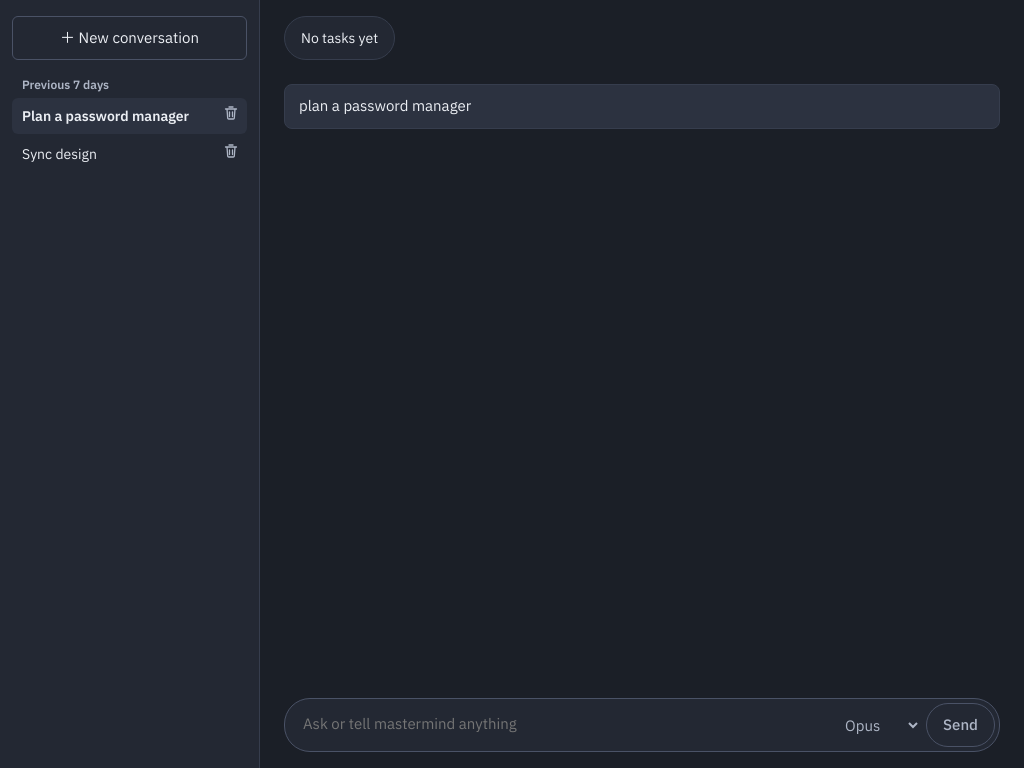
Test: chat screen › deletes a conversation from the sidebar only once the owner confirms
Click the button named "Delete Sync design": (231, 154) top-left (215, 138), bottom-right (247, 170)
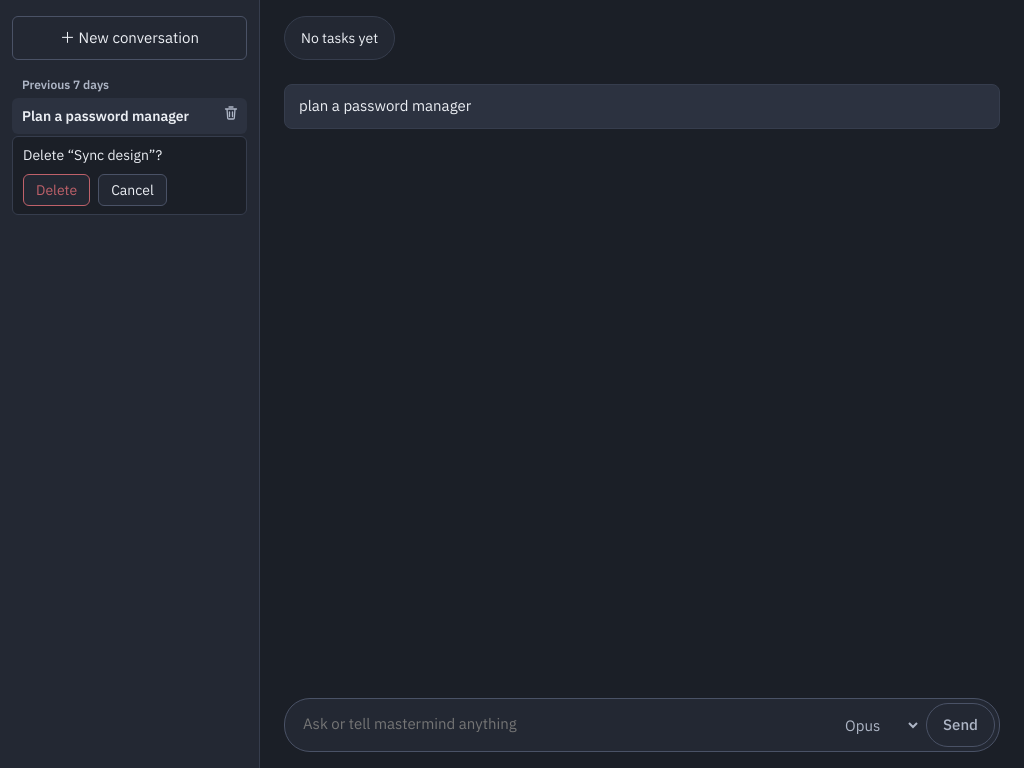
Result: the text "Delete “Sync design”?" is shown at top-left (23, 146), bottom-right (162, 164)
Click the button "Cancel": (132, 190) top-left (98, 174), bottom-right (167, 206)
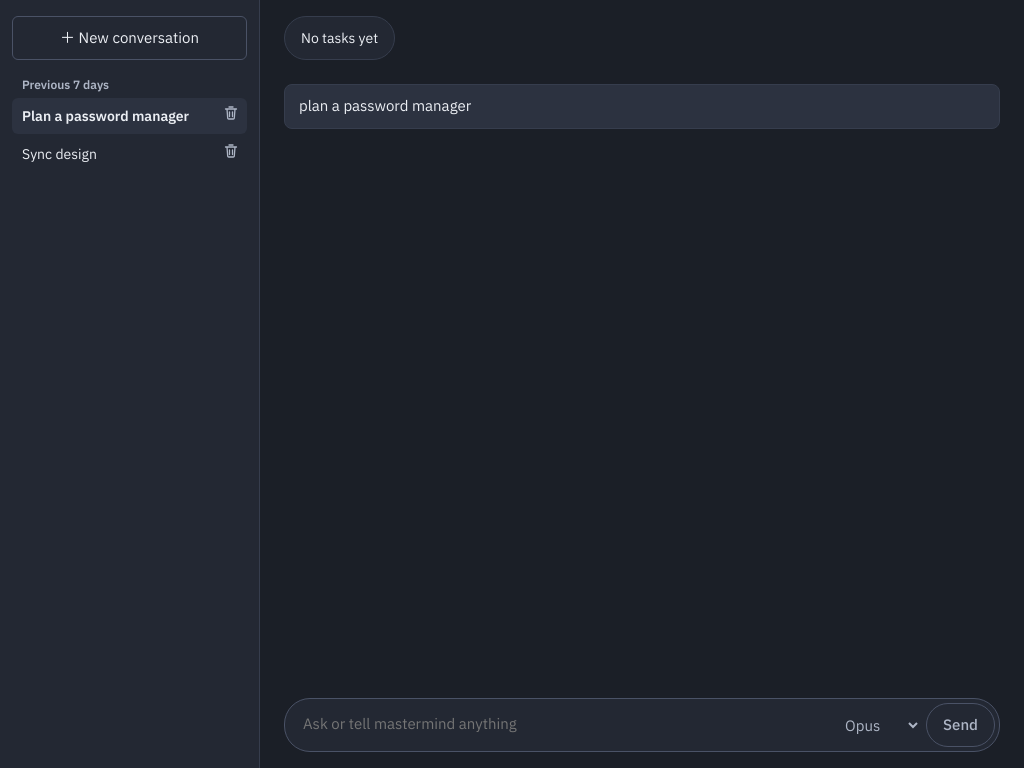
Click the button named "Delete Sync design": (231, 154) top-left (215, 138), bottom-right (247, 170)
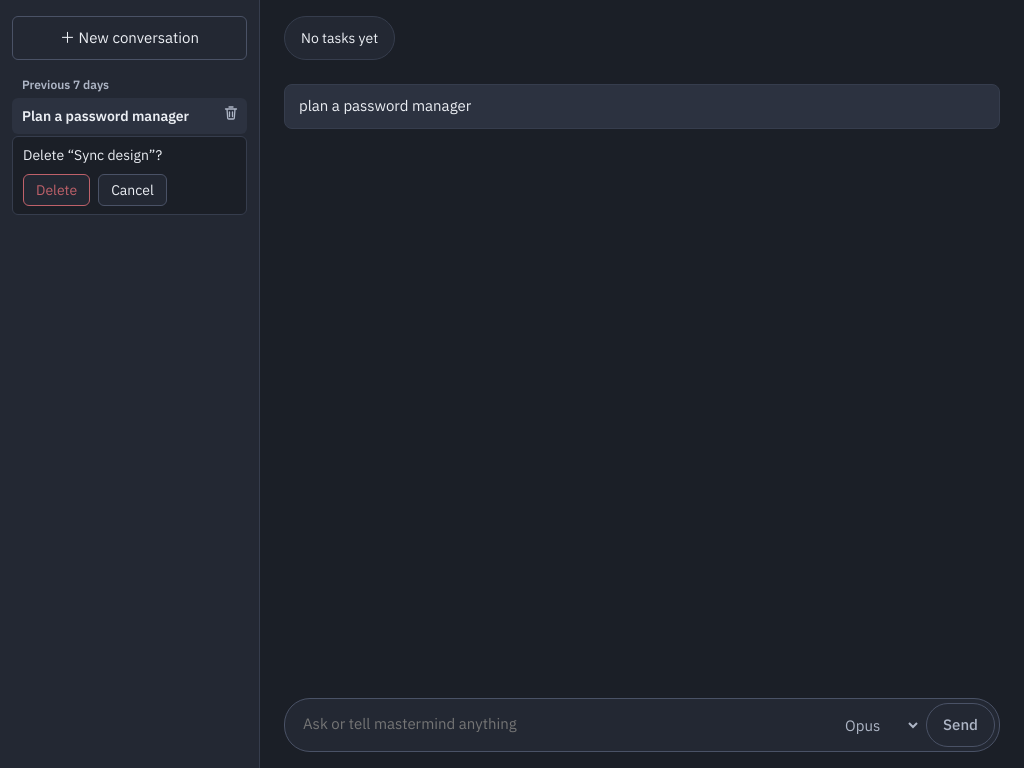
Click the button "Delete": (57, 190) top-left (23, 174), bottom-right (90, 206)
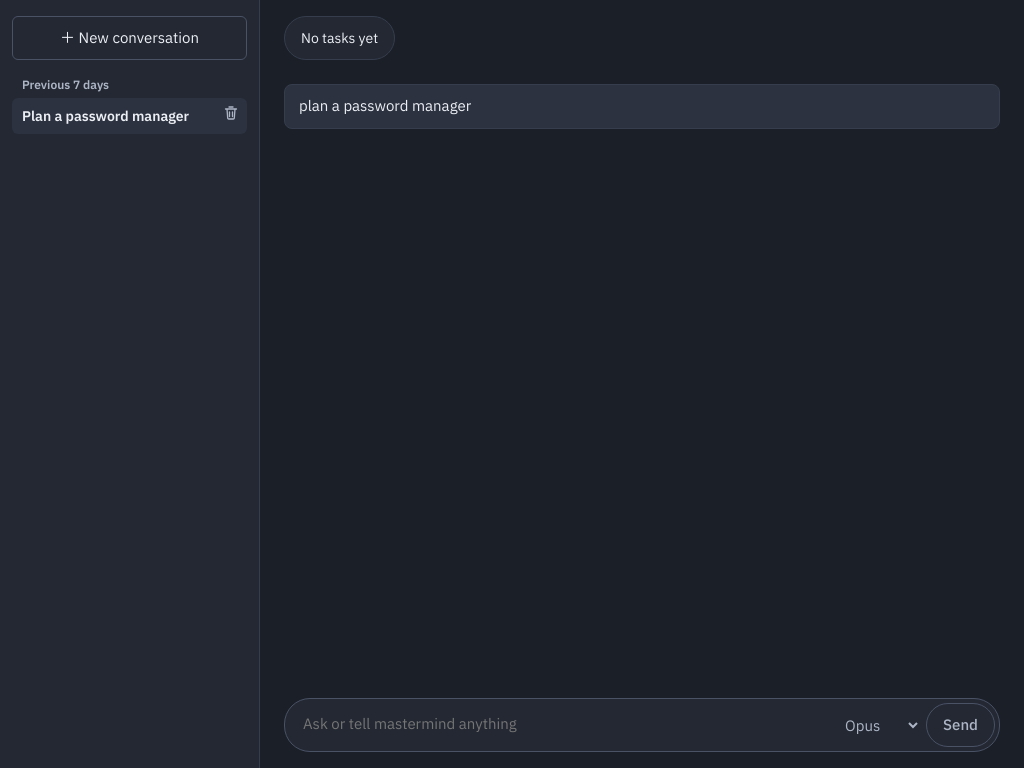
Expected: the button "Plan a password manager" is shown, top-left (12, 98), bottom-right (215, 134)
Result: the text "Sync design" is gone
